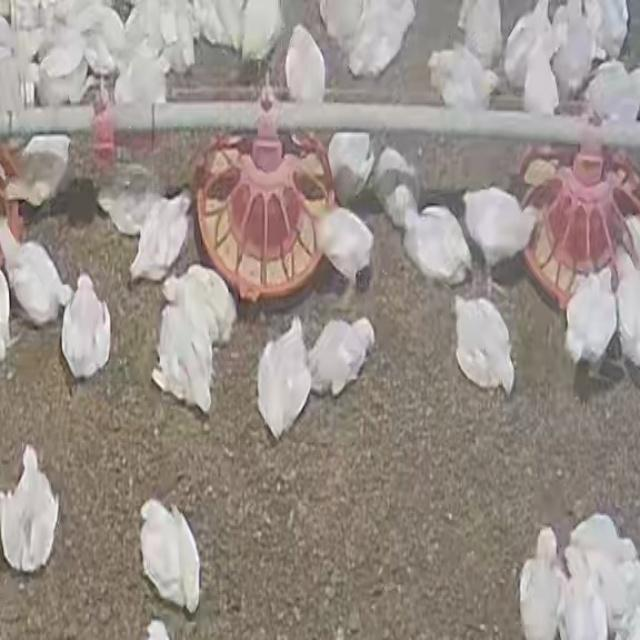chicken: (459, 186, 537, 290), (0, 445, 60, 575), (138, 498, 201, 614), (256, 316, 312, 440), (308, 202, 376, 301), (398, 201, 474, 289), (452, 293, 516, 395), (128, 191, 196, 284), (7, 238, 75, 330), (340, 0, 418, 80), (157, 306, 215, 413), (563, 268, 619, 378), (171, 265, 239, 350), (60, 274, 112, 382), (3, 135, 73, 213), (517, 527, 565, 639), (310, 317, 376, 398), (94, 163, 161, 237), (427, 43, 500, 110), (369, 145, 420, 227), (550, 0, 594, 92), (505, 0, 553, 84), (326, 130, 376, 207), (284, 22, 327, 104), (585, 60, 640, 122), (163, 0, 204, 75), (617, 247, 640, 375), (112, 57, 171, 106), (197, 0, 247, 51), (127, 0, 180, 48), (242, 0, 280, 61), (464, 0, 498, 63), (524, 56, 556, 118)
